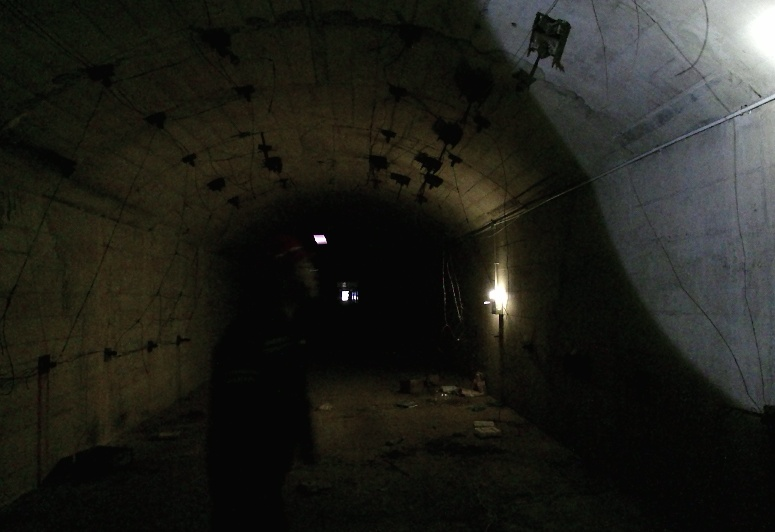person: (188, 238, 319, 532)
